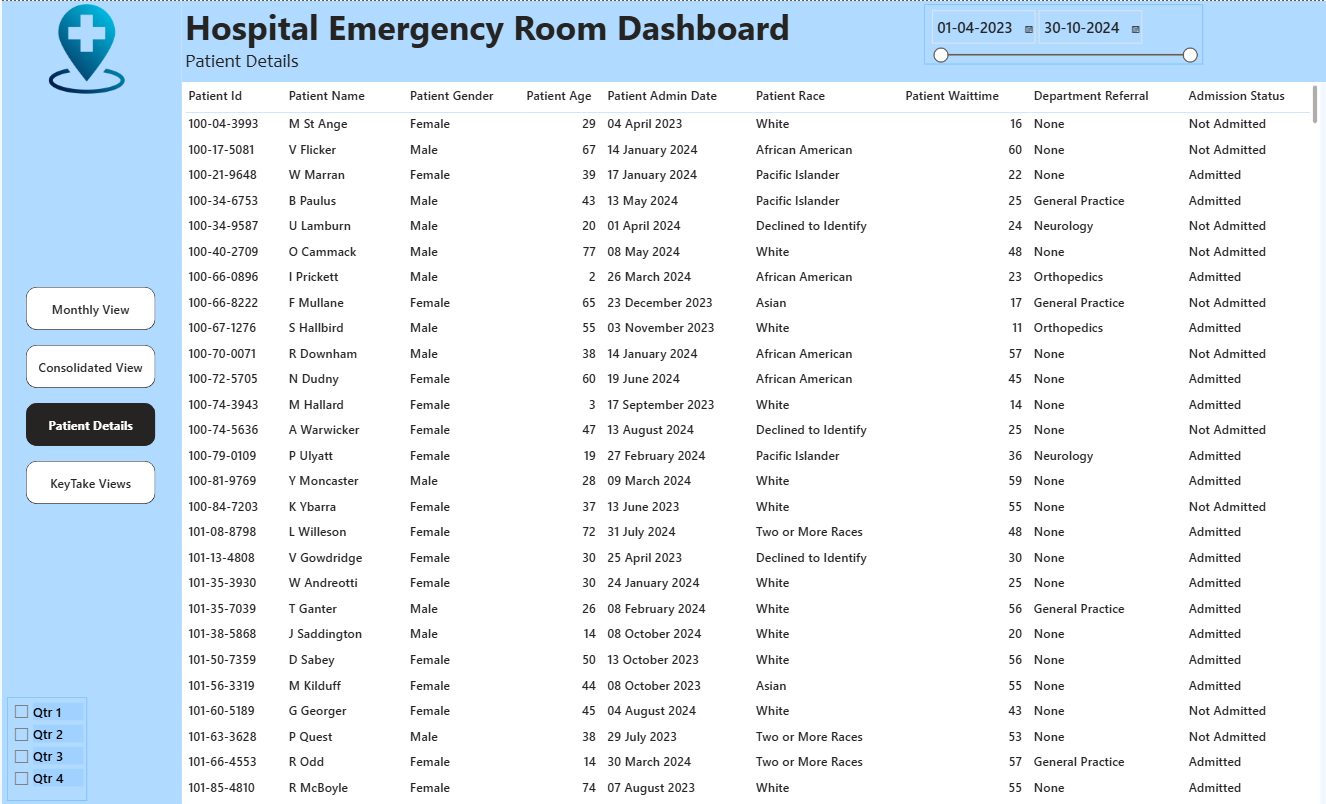

This screenshot's page, from the dashboard's own definition file:
{"tool":"powerbi","page":{"name":"Patient Details","canvas":[2300,1400],"ordinal":2},"visuals":[{"type":"shape","box":[10.8,0,310,1400.1],"z":0},{"type":"shape","box":[320.7,0,1979.3,139.7],"z":1000},{"type":"textbox","box":[320.6,0,1063.1,210.1],"z":2000},{"type":"slicer","fields":{"Values":["Date Table.Date"]},"box":[1600.5,5.6,481.3,104.5],"z":3000},{"type":"image","box":[37.9,5.2,236.2,155.2],"z":36000},{"type":"slicer","fields":{"Values":["Date Table.Date.Variation.Date Hierarchy.Quarter"]},"box":[18.7,1199.4,138,179.1],"z":41000},{"type":"tableEx","fields":{"Values":["Hospital ER_Data.Patient Id","Hospital ER_Data.Patient Full Name","Hospital ER_Data.Patient Gender","Sum(Hospital ER_Data.Patient Age)","Hospital ER_Data.Patient Admin Date","Hospital ER_Data.Patient Race","Sum(Hospital ER_Data.Patient Waittime)","Hospital ER_Data.Department Referral","Hospital ER_Data.Admission Status"]},"box":[321.2,140.4,1963.5,1259.6],"z":41001},{"type":"pageNavigator","box":[51.9,492.3,223.1,375],"z":41002}]}

Visuals, with their boxes in screenshot pixels (x1, y1, x2, y2), scaled from the page's 2300x1400 canvas onto the 1326x804 screenshot:
shape: Rect(6, 0, 185, 803)
shape: Rect(185, 0, 1325, 80)
textbox: Rect(185, 0, 798, 121)
slicer - Date Table.Date: Rect(923, 3, 1200, 63)
image: Rect(22, 3, 158, 92)
slicer - Date Table.Date.Variation.Date Hierarchy.Quarter: Rect(11, 689, 90, 792)
tableEx - Hospital ER_Data.Patient Id x Hospital ER_Data.Patient Full Name: Rect(185, 81, 1317, 803)
pageNavigator: Rect(30, 283, 159, 498)
